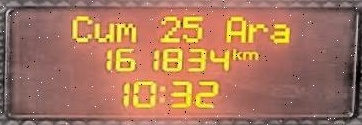0: (132, 79, 153, 108)
1: (101, 46, 112, 69), (150, 47, 161, 70), (120, 80, 128, 108)
2: (194, 79, 218, 108), (158, 14, 180, 43)
3: (168, 80, 190, 108), (186, 45, 203, 72)
4: (207, 48, 229, 70)
5: (181, 14, 202, 42)
6: (113, 45, 134, 70)
8: (162, 46, 183, 71)
X: (223, 15, 247, 42), (68, 14, 90, 42), (269, 21, 290, 43), (114, 21, 135, 42), (92, 21, 113, 42), (247, 21, 267, 43), (157, 82, 166, 105), (241, 50, 258, 61), (232, 48, 241, 59)
